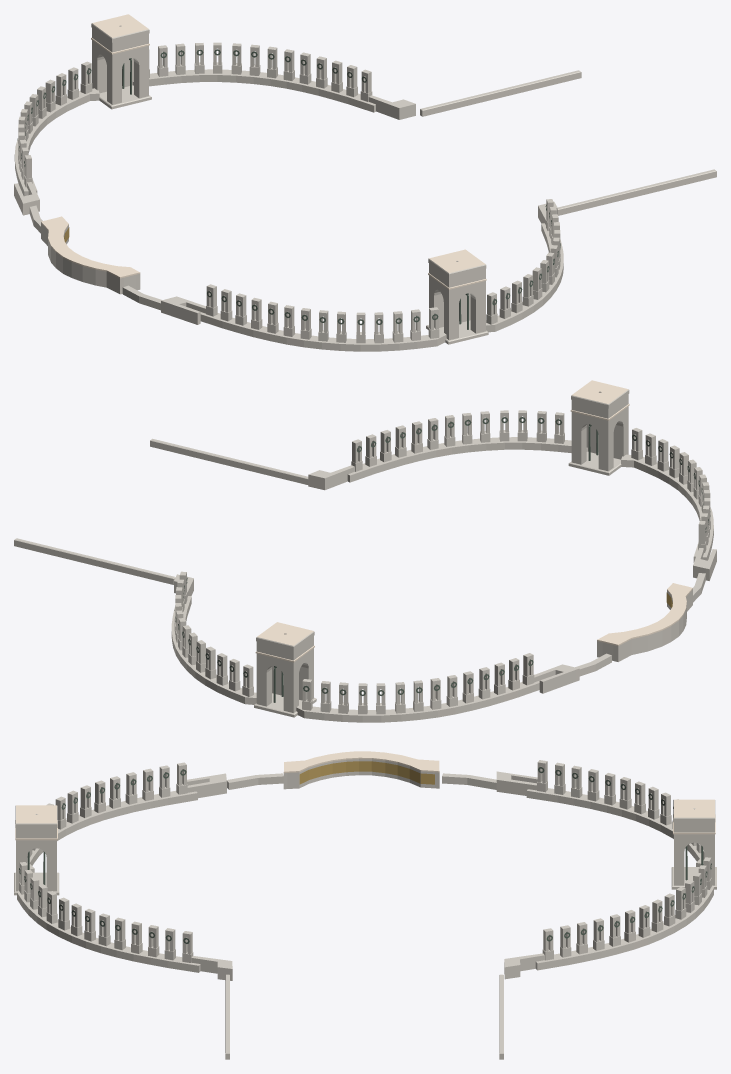
The model's file is dc-wwii-memorial.glb.
3 views of the same model, one above another, from view 1: azimuth 30°, elevation 25°; view 2: azimuth 150°, elevation 25°; view 3: azimuth 270°, elevation 25° (orthographic).
Visible parts, largest first — view 1: National World War II Memorial; view 2: National World War II Memorial; view 3: National World War II Memorial.
Part boxes in pixels (box(x1,y1,x2,y2)): National World War II Memorial: box(14, 14, 716, 351); National World War II Memorial: box(14, 380, 716, 722); National World War II Memorial: box(14, 751, 716, 1059).
Bounding box in the file's own units: 114 × 13 × 117.
